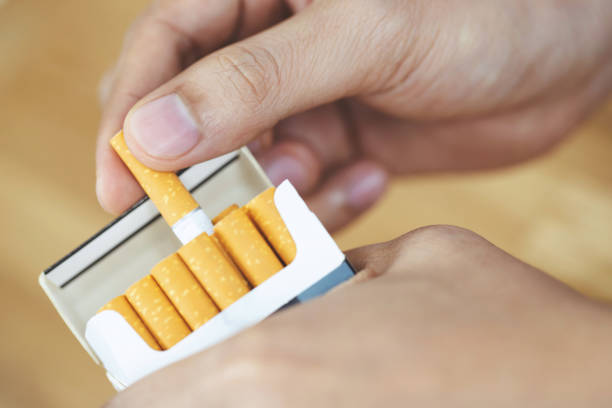cigarette: (37, 144, 358, 392), (98, 129, 214, 247), (176, 231, 250, 312), (212, 207, 283, 288), (149, 251, 219, 333), (125, 274, 190, 350), (245, 186, 299, 266), (95, 294, 163, 353)
